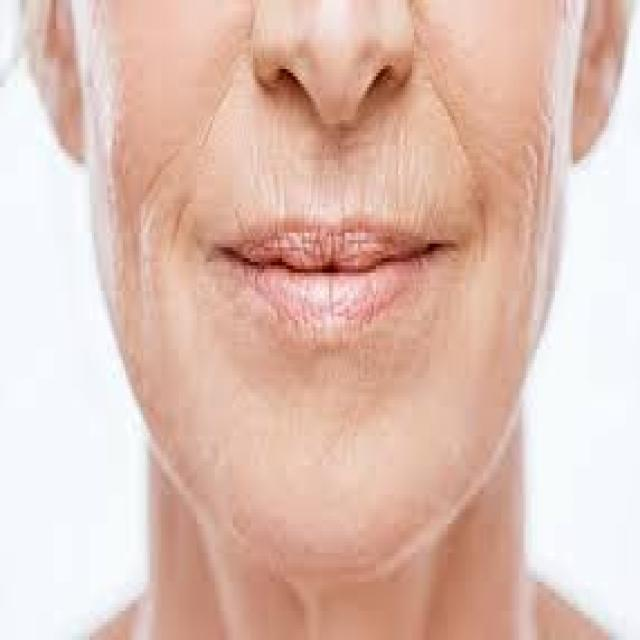Wrinkles: (135, 38, 242, 267), (431, 75, 488, 271)
